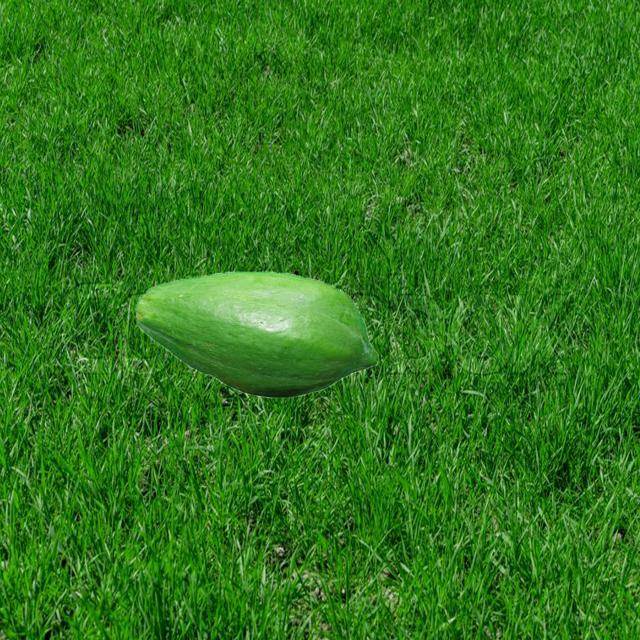Pepaya unrippen: (124, 266, 383, 399)
